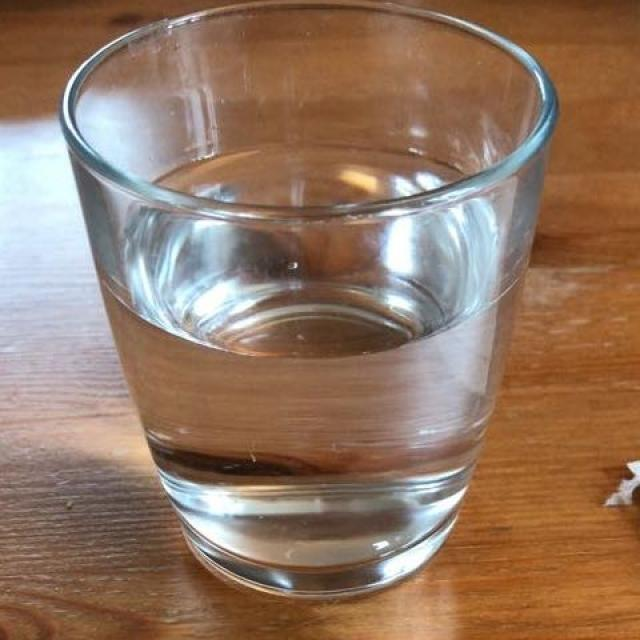water: (82, 147, 519, 578)
